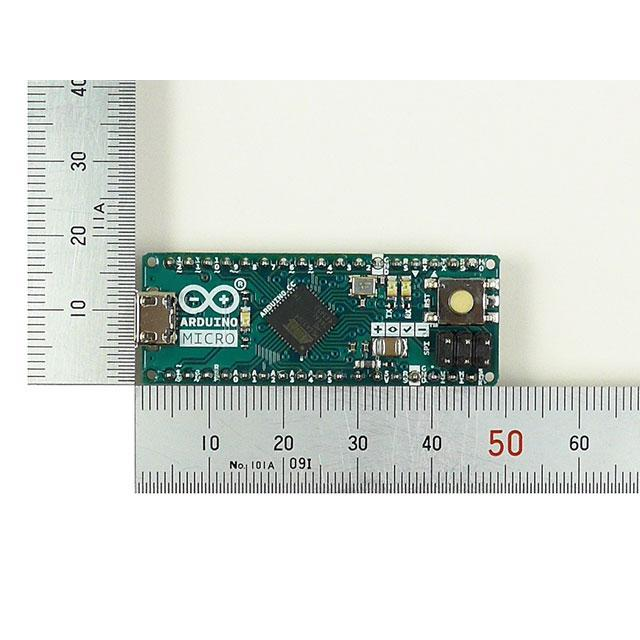Arduino-Micro: (137, 254, 500, 389)
